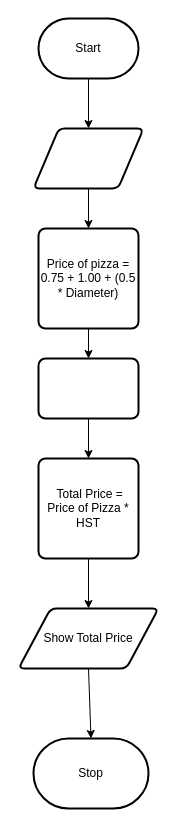
This 176x826 diagram has some shape labels left out. Here are the shapes that lost their labels. From the top down, the box of each, then its label:
(32, 127, 144, 189): Get Diameter
(37, 357, 139, 419): HST = 1.13
